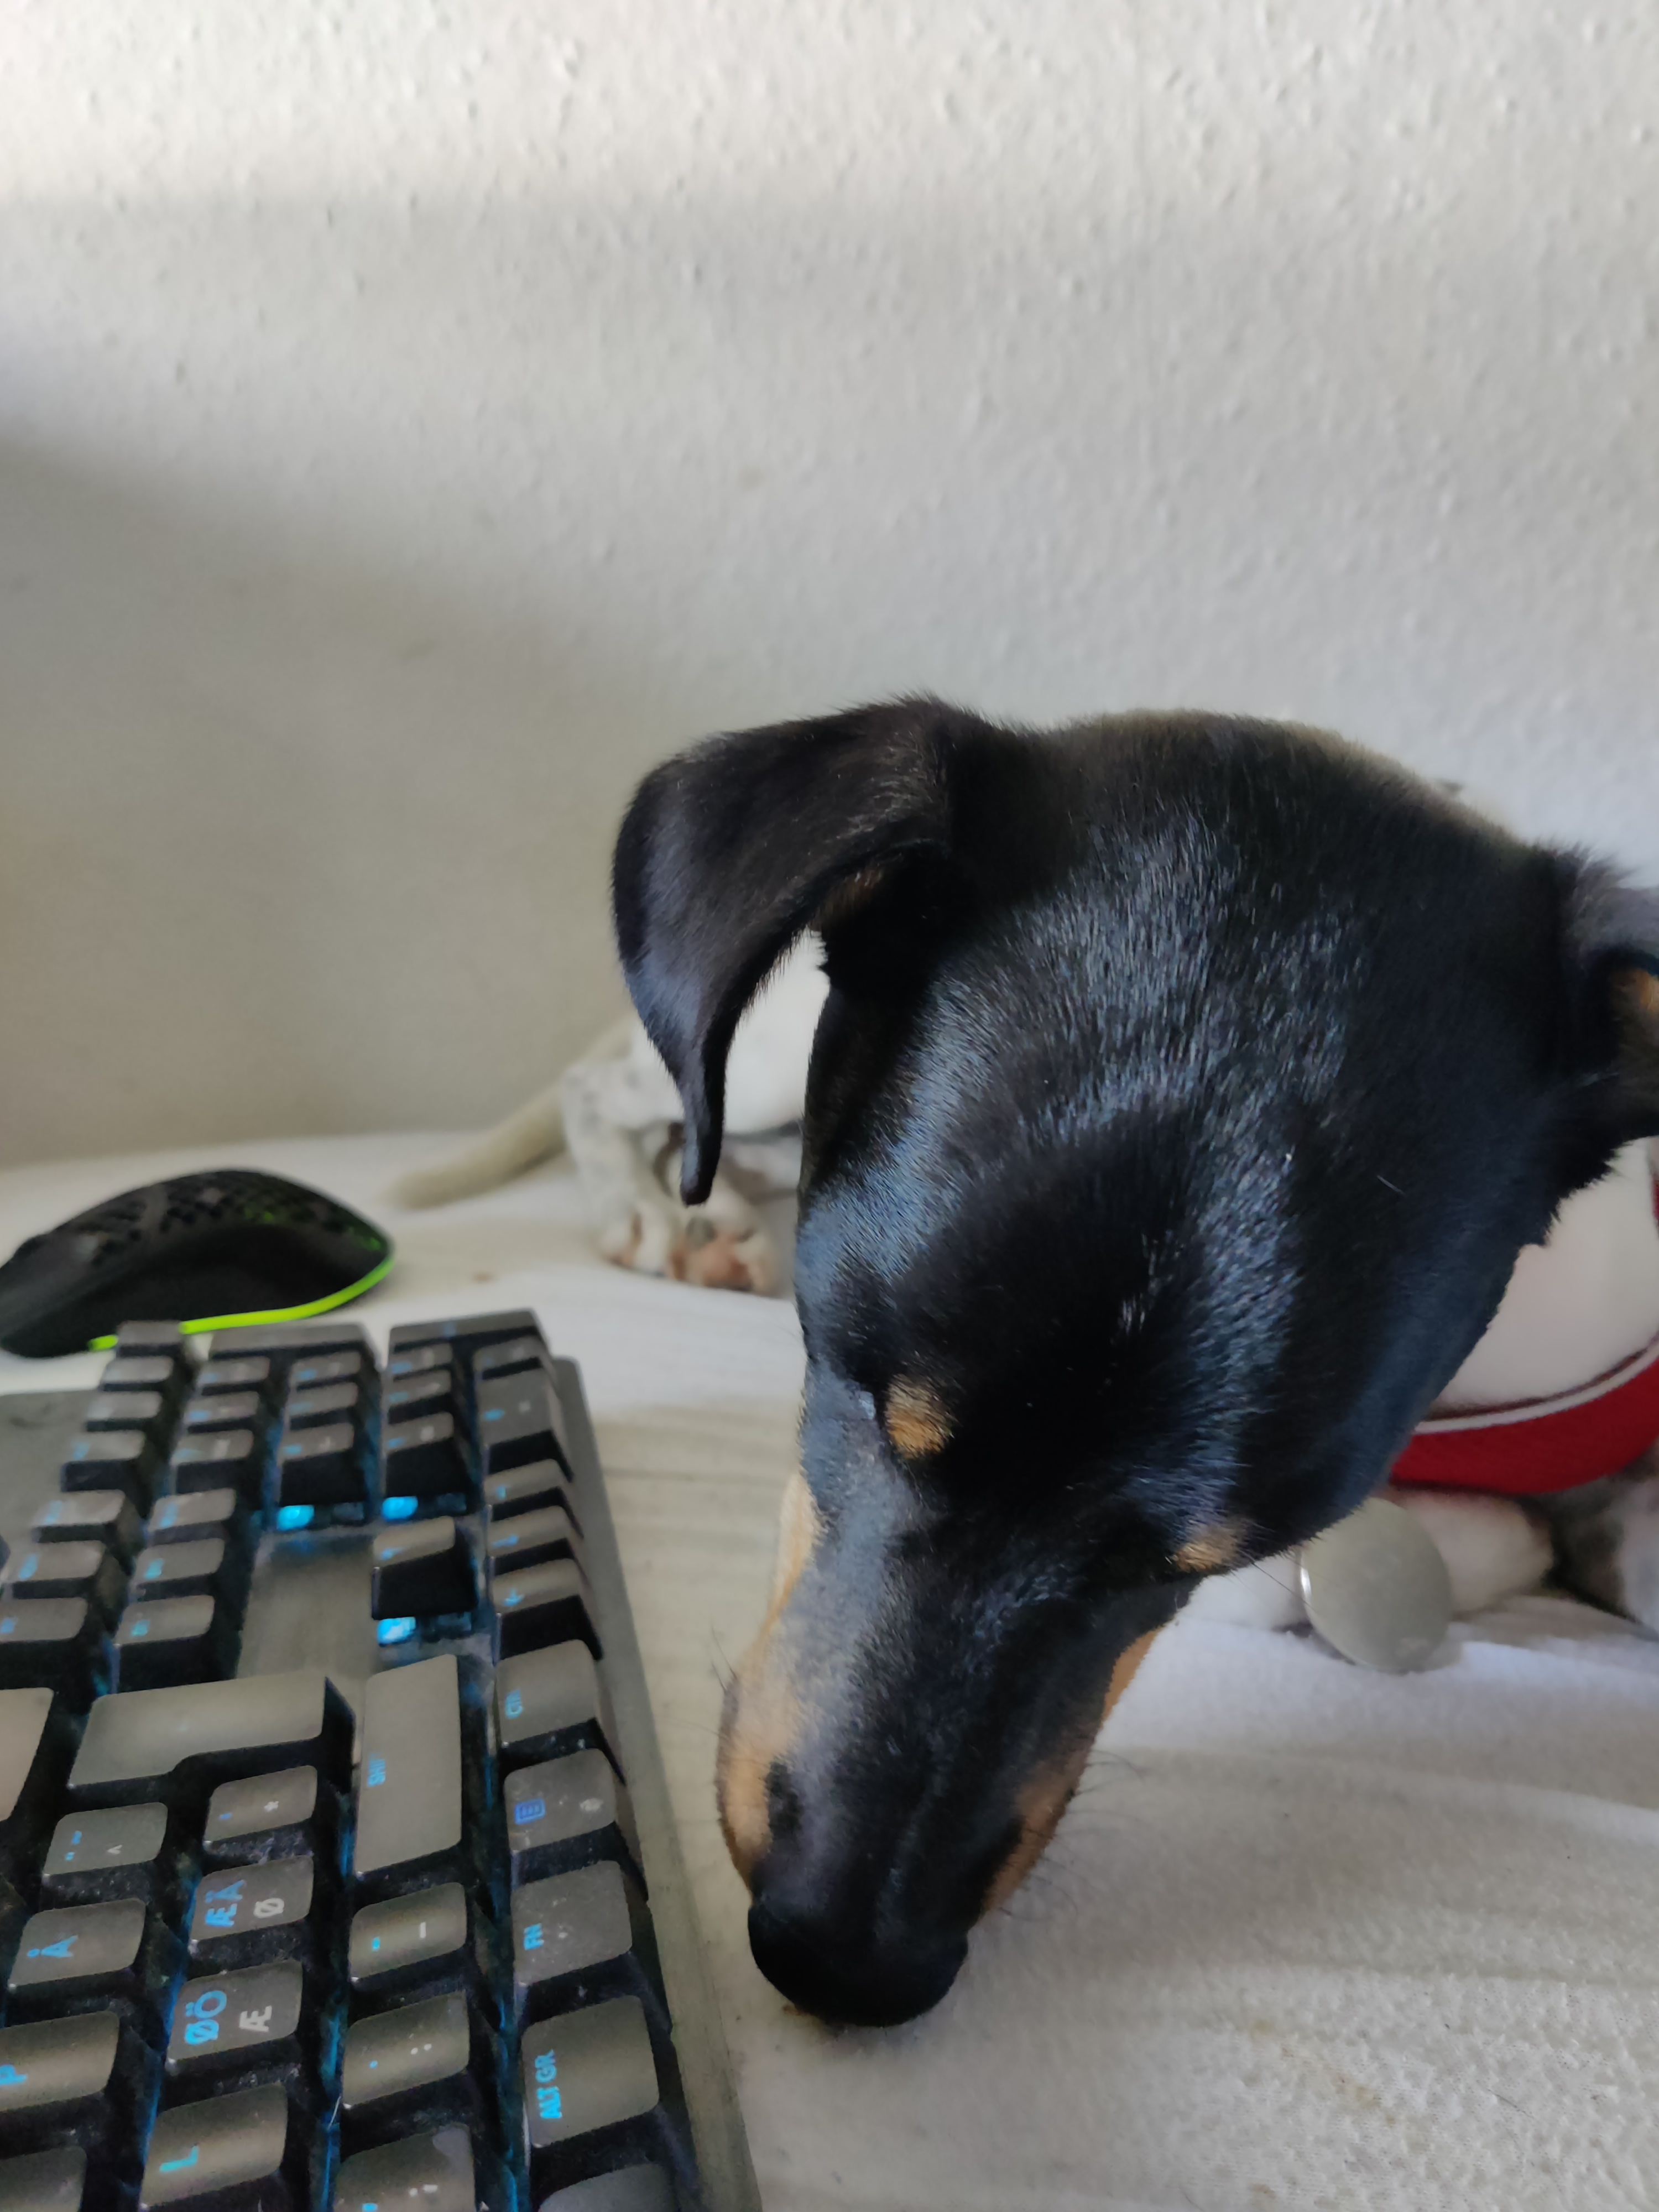Dog: (335, 669, 1659, 2026)
